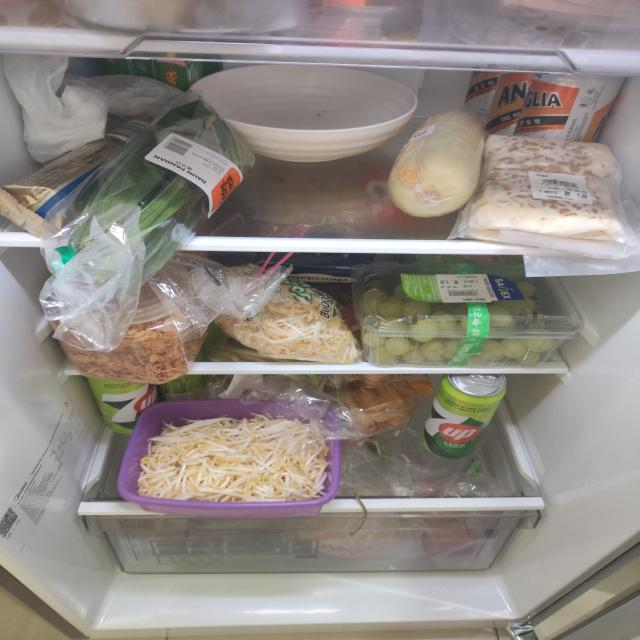bean_sprouts: (137, 412, 330, 502), (213, 263, 364, 364)
corn: (387, 107, 486, 218)
grape: (360, 281, 553, 365)
leafy_greens: (68, 99, 256, 278)
tempeh: (467, 133, 626, 242)
